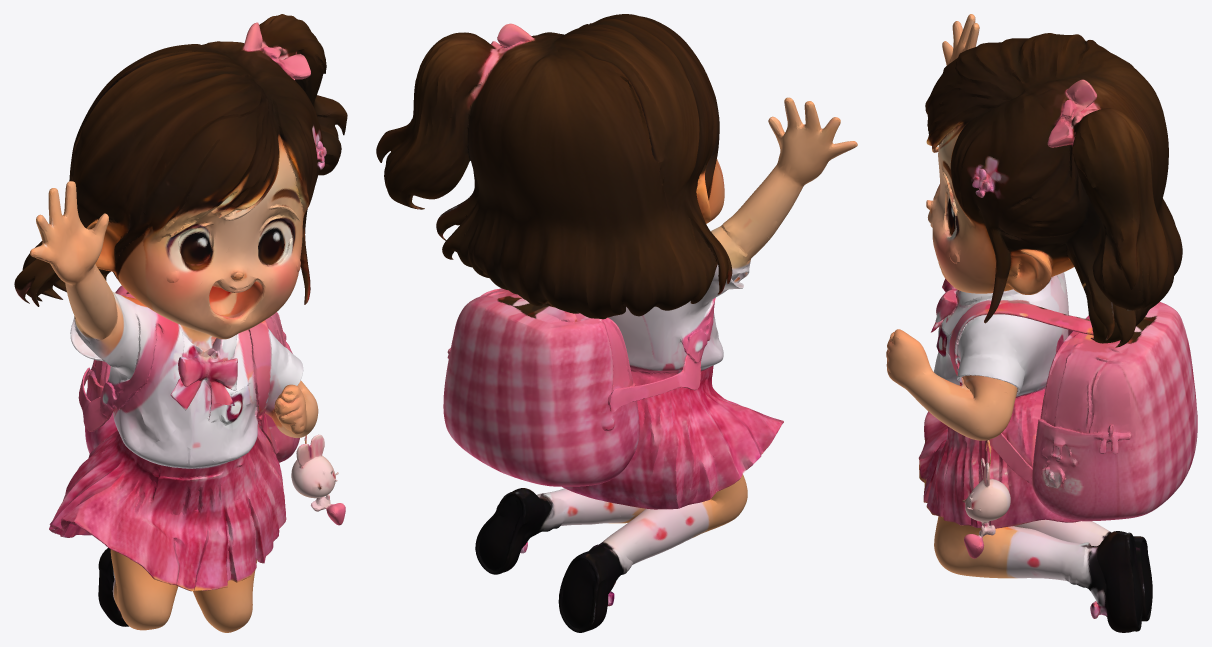
The model's file is hai.glb.
3 views of the same model, side by side, from view 1: azimuth 30°, elevation 25°; view 2: azimuth 150°, elevation 25°; view 3: azimuth 270°, elevation 25° (orthographic). The views are drawn at different scales.
Visible parts, largest first — view 1: model; view 2: model; view 3: model.
Boxes of the visible parts, x1=… form: model: x1=14, y1=14, x2=347, y2=632; model: x1=376, y1=14, x2=857, y2=632; model: x1=886, y1=14, x2=1197, y2=632.
Size of the model in its own units: 1.37 by 1.9 by 0.909.
Materials: 1 (1 with a texture image).
